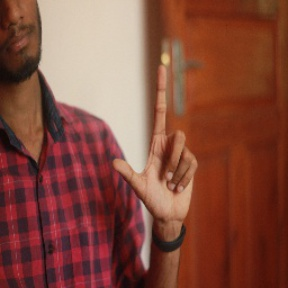L: (108, 64, 203, 219)
